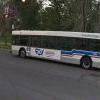Bus: (9, 26, 98, 70)
